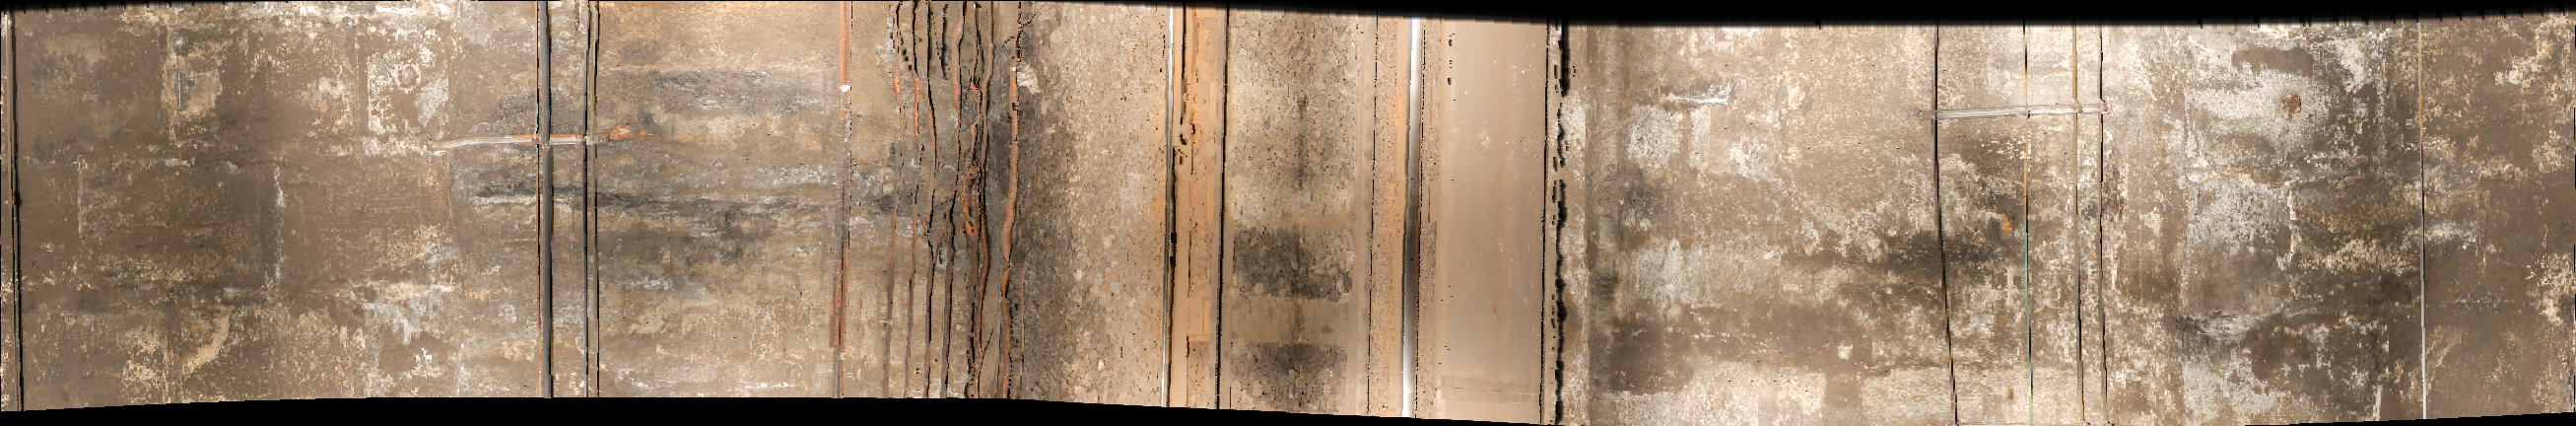pipes: (828, 2, 1025, 411), (2012, 21, 2119, 426), (531, 5, 613, 426), (1917, 30, 1966, 426), (2410, 26, 2435, 426)
tracks: (1158, 5, 1457, 426)
